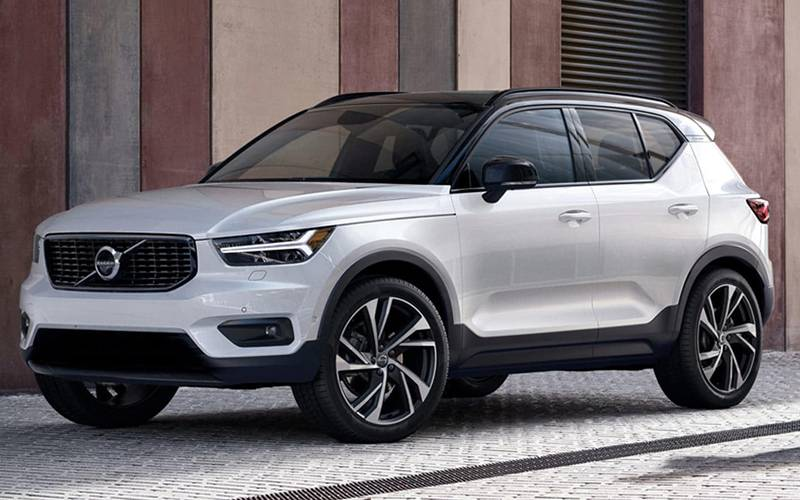car: (18, 87, 774, 444)
